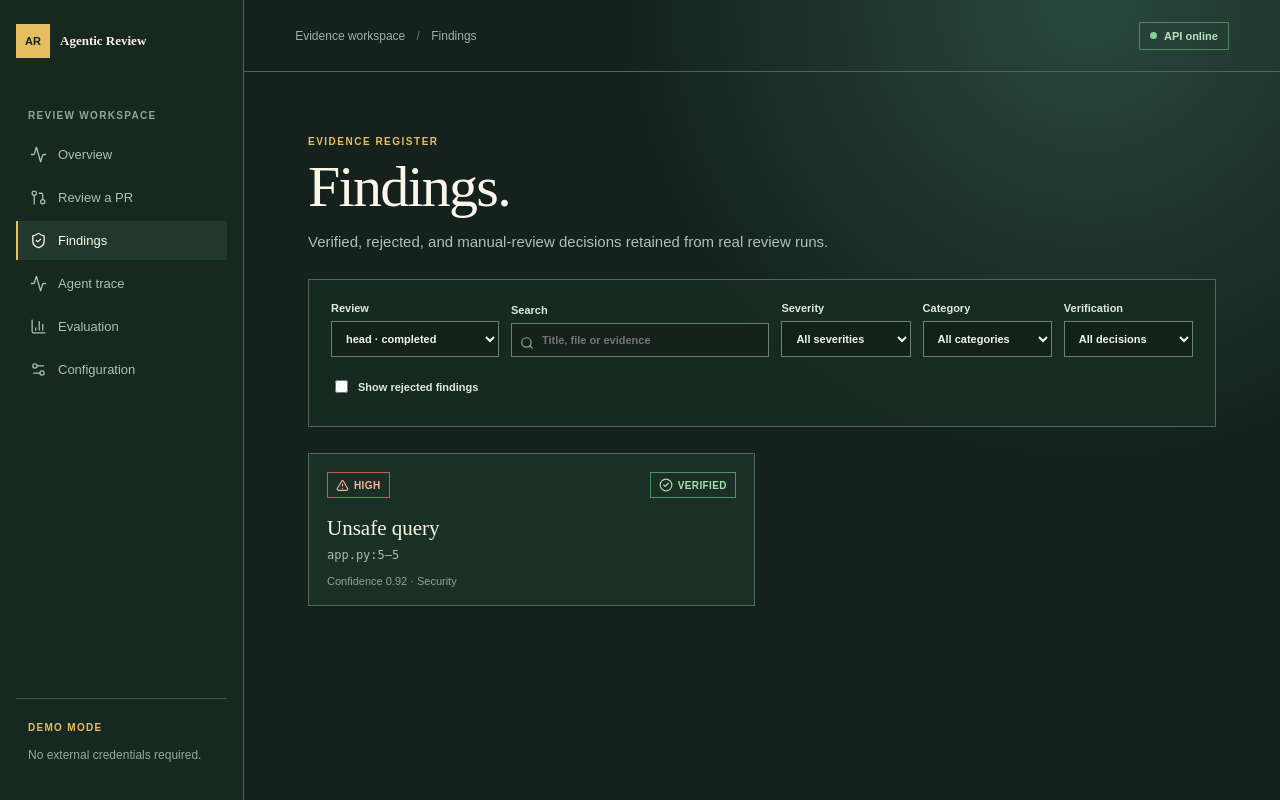
Test: dashboard › filters findings and hides rejected candidates by default
Expected: the heading "Findings." is shown, x1=308 y1=154 x2=510 y2=219
Expected: the heading "Unsafe query" is shown, x1=327 y1=516 x2=440 y2=540
Click the checkbox labelled "Show rejected findings": [342, 387] box x1=335 y1=380 x2=348 y2=393
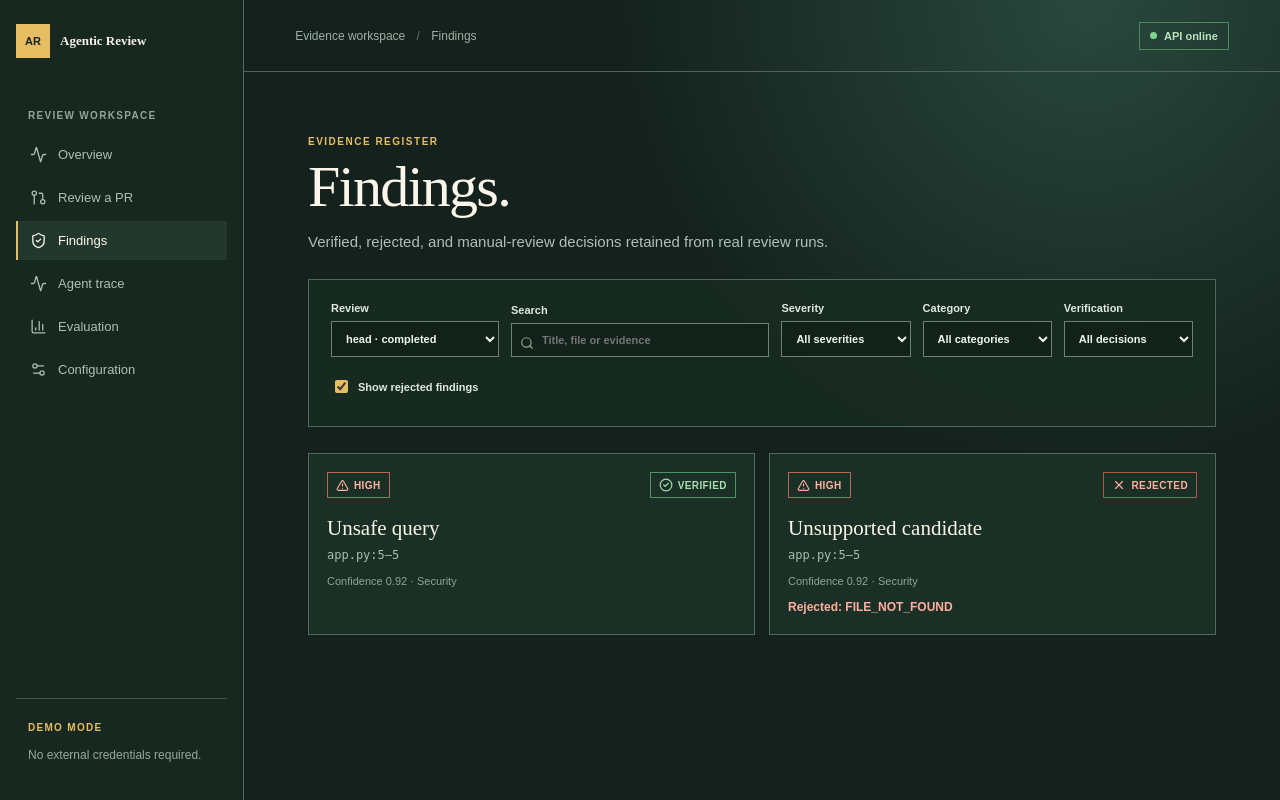
Result: the text "Rejected: FILE_NOT_FOUND" is shown at x1=788 y1=600 x2=953 y2=614
In the field with placeholder "Title, file or evidence": [640, 340] box x1=511 y1=323 x2=769 y2=357, type "Unsafe"
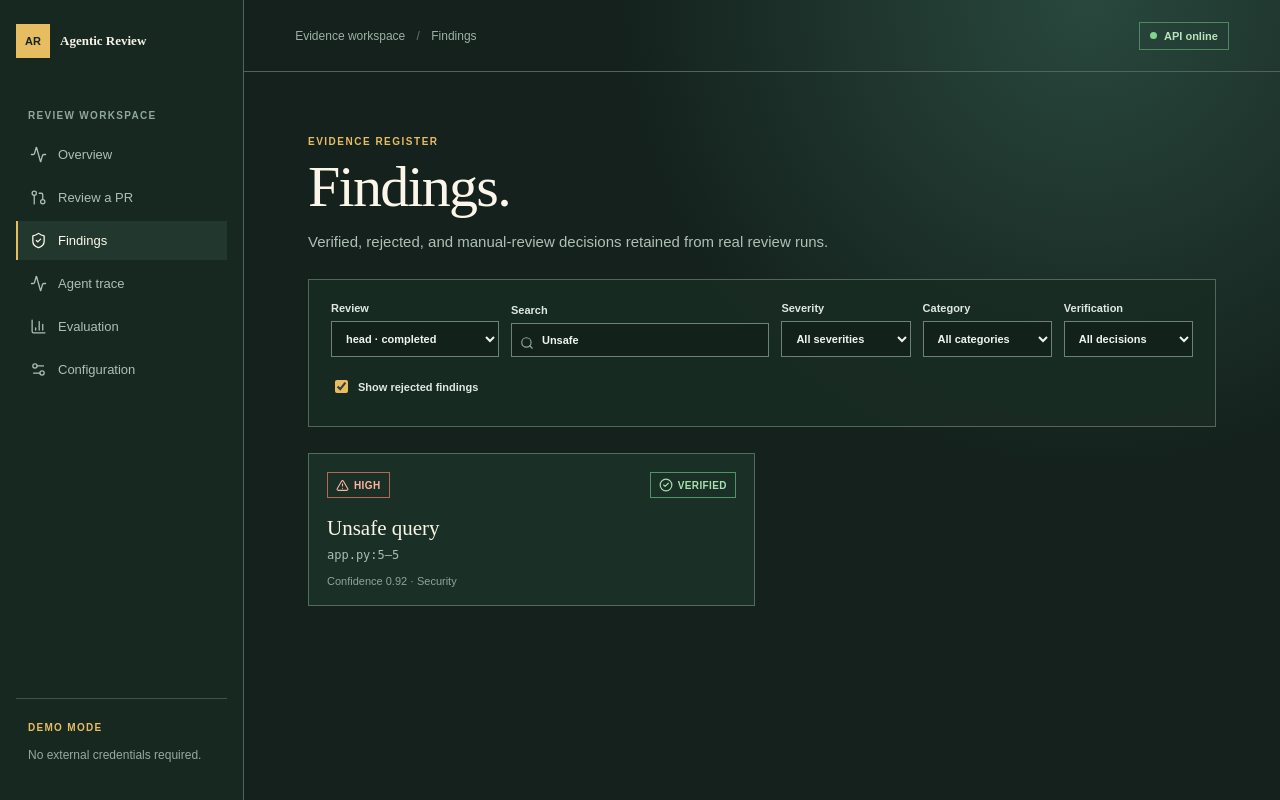
Expected: the heading "Unsafe query" is shown, x1=327 y1=516 x2=440 y2=540
Result: the link "Unsupported candidate" is gone
